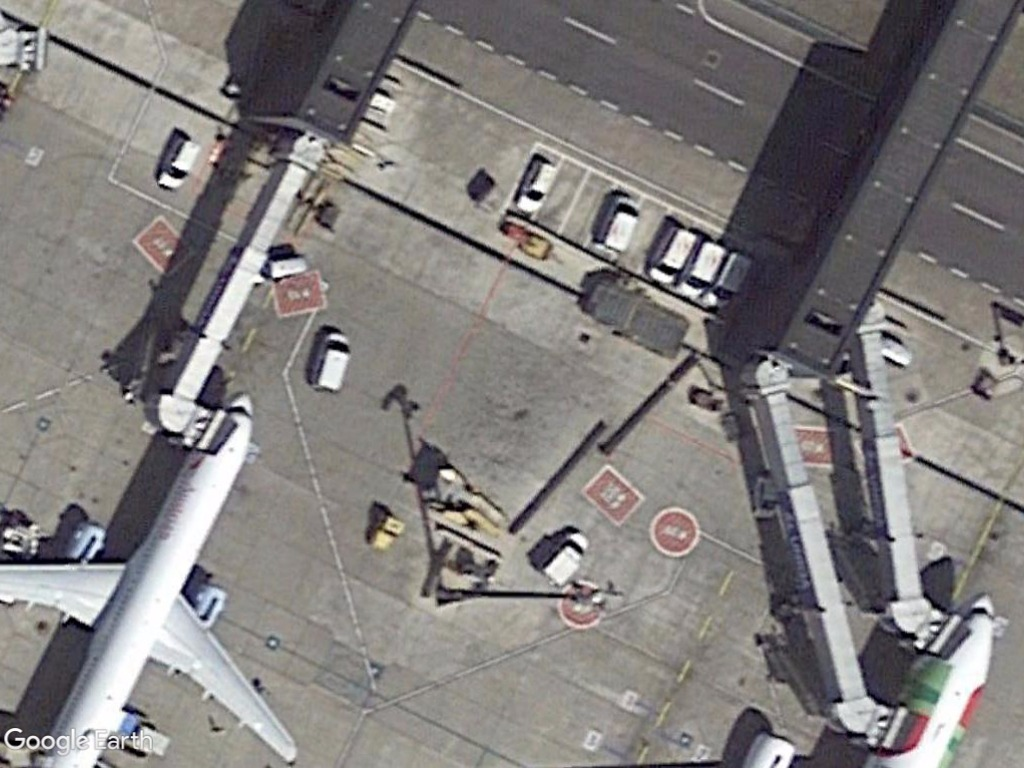van: (536, 526, 596, 591), (699, 249, 756, 316), (592, 191, 647, 258), (674, 238, 727, 305), (645, 222, 699, 287), (151, 134, 203, 195), (309, 325, 353, 395), (515, 155, 558, 217)
